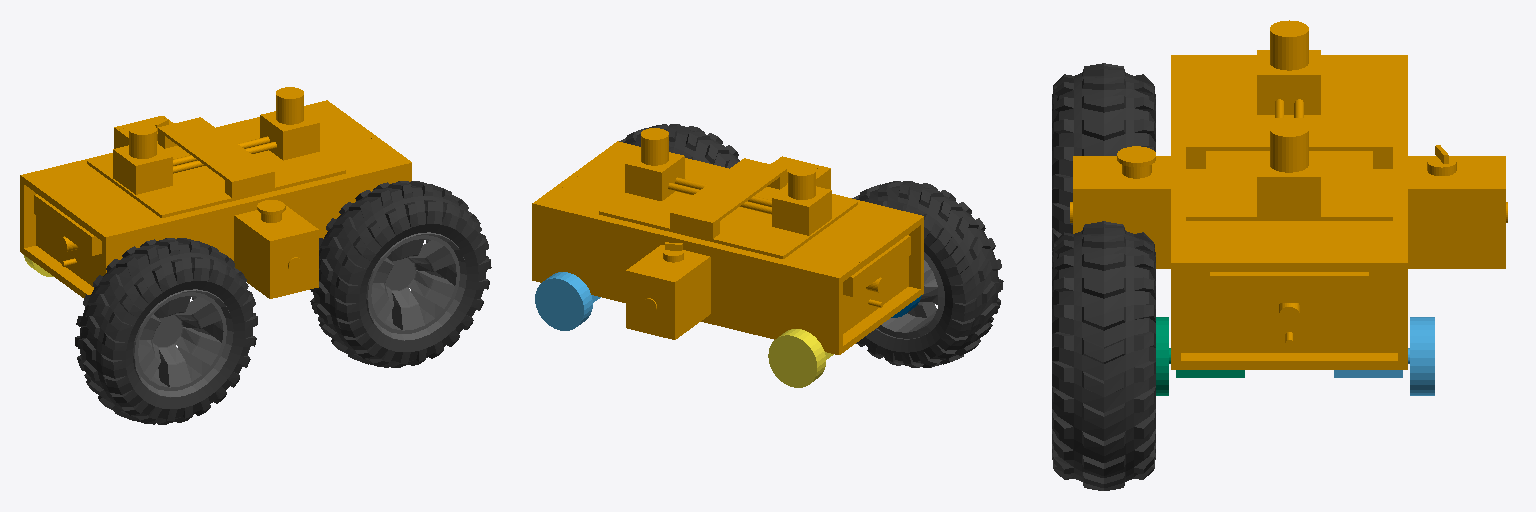
The robot description file, URDF, robot "ROBOTIKA_FREYJA":
<?xml version='1.0' encoding='utf-8'?>
<robot name='ROBOTIKA_FREYJA'>
  <link name='base_link'>
    <inertial>
      <origin xyz='0 0 0.0725' rpy='0 -0 0'/>
      <mass value='9.6'/>
      <inertia ixx='0.0512' ixy='0' ixz='0' iyy='0.07712' iyz='0' izz='0.11808'/>
    </inertial>
    <collision name='chassis_collision'>
      <origin xyz='0 0 0.105' rpy='0 -0 0'/>
      <geometry>
        <box size='0.5 0.24 0.235'/>
      </geometry>
    </collision>
    <collision name='left_mount_collision'>
      <origin xyz='0 0.17 0.085' rpy='0 -0 0'/>
      <geometry>
        <box size='0.08 0.1 0.115'/>
      </geometry>
    </collision>
    <collision name='right_mount_collision'>
      <origin xyz='0 -0.17 0.085' rpy='0 -0 0'/>
      <geometry>
        <box size='0.08 0.1 0.115'/>
      </geometry>
    </collision>
    <visual name='chassis_main_visual'>
      <origin xyz='0 0 0.0725' rpy='0 -0 0'/>
      <geometry>
        <box size='0.46 0.24 0.12'/>
      </geometry>
    </visual>
    <visual name='chassis_front_face_bottom'>
      <origin xyz='0.24 0 0.0175' rpy='0 -0 0'/>
      <geometry>
        <box size='0.02001 0.24 0.01'/>
      </geometry>
    </visual>
    <visual name='chassis_front_face_top'>
      <origin xyz='0.24 0 0.1275' rpy='0 -0 0'/>
      <geometry>
        <box size='0.02001 0.24 0.01'/>
      </geometry>
    </visual>
    <visual name='chassis_front_face_top_marker'>
      <origin xyz='0.245 0 0.1325' rpy='0 -0 0'/>
      <geometry>
        <box size='0.01 0.12 0.0001'/>
      </geometry>
    </visual>
    <visual name='chassis_front_face_left'>
      <origin xyz='0.24 0.115 0.0725' rpy='0 -0 0'/>
      <geometry>
        <box size='0.02001 0.01 0.12'/>
      </geometry>
    </visual>
    <visual name='chassis_front_face_right'>
      <origin xyz='0.24 -0.115 0.0725' rpy='0 -0 0'/>
      <geometry>
        <box size='0.02001 0.01 0.12'/>
      </geometry>
    </visual>
    <visual name='chassis_rear_face_bottom'>
      <origin xyz='-0.24 0 0.0175' rpy='0 -0 0'/>
      <geometry>
        <box size='0.02001 0.24 0.01'/>
      </geometry>
    </visual>
    <visual name='chassis_rear_face_top'>
      <origin xyz='-0.24 0 0.1275' rpy='0 -0 0'/>
      <geometry>
        <box size='0.02001 0.24 0.01'/>
      </geometry>
    </visual>
    <visual name='chassis_rear_face_top_marker'>
      <origin xyz='-0.245 0 0.1325' rpy='0 -0 0'/>
      <geometry>
        <box size='0.01 0.12 0.0001'/>
      </geometry>
    </visual>
    <visual name='chassis_rear_face_left'>
      <origin xyz='-0.24 0.115 0.0725' rpy='0 -0 0'/>
      <geometry>
        <box size='0.02001 0.01 0.12'/>
      </geometry>
    </visual>
    <visual name='chassis_rear_face_right'>
      <origin xyz='-0.24 -0.115 0.0725' rpy='0 -0 0'/>
      <geometry>
        <box size='0.02001 0.01 0.12'/>
      </geometry>
    </visual>
    <visual name='lidar_base_visual'>
      <origin xyz='0 0 0.135' rpy='0 -0 0'/>
      <geometry>
        <box size='0.3001 0.21 0.005'/>
      </geometry>
    </visual>
    <visual name='cable_cover_left_visual'>
      <origin xyz='0 0.095 0.1475' rpy='0 -0 0'/>
      <geometry>
        <box size='0.07 0.02 0.02001'/>
      </geometry>
    </visual>
    <visual name='cable_cover_right_visual'>
      <origin xyz='0 -0.095 0.1475' rpy='0 -0 0'/>
      <geometry>
        <box size='0.07 0.02 0.02001'/>
      </geometry>
    </visual>
    <visual name='cable_cover_top_visual'>
      <origin xyz='0 0 0.16' rpy='0 -0 0'/>
      <geometry>
        <box size='0.07 0.21 0.005'/>
      </geometry>
    </visual>
    <visual name='left_mount_visual'>
      <origin xyz='0 0.17 0.0725' rpy='0 -0 0'/>
      <geometry>
        <box size='0.08 0.1 0.09'/>
      </geometry>
    </visual>
    <visual name='left_mount_top_marker_visual'>
      <origin xyz='0 0.215 0.1175' rpy='0 -0 0'/>
      <geometry>
        <box size='0.08 0.01 0.0001'/>
      </geometry>
    </visual>
    <visual name='right_mount_visual'>
      <origin xyz='0 -0.17 0.0725' rpy='0 -0 0'/>
      <geometry>
        <box size='0.08 0.1 0.09'/>
      </geometry>
    </visual>
    <visual name='right_mount_top_marker_visual'>
      <origin xyz='0 -0.215 0.1175' rpy='0 -0 0'/>
      <geometry>
        <box size='0.08 0.01 0.0001'/>
      </geometry>
    </visual>
    <visual name='emergency_stop_bottom_visual'>
      <origin xyz='0 -0.155 0.125' rpy='0 -0 0'/>
      <geometry>
        <cylinder radius='0.015' length='0.015'/>
      </geometry>
    </visual>
    <visual name='emergency_stop_top_visual'>
      <origin xyz='0 -0.155 0.135' rpy='0 -0 0'/>
      <geometry>
        <cylinder radius='0.02' length='0.005'/>
      </geometry>
    </visual>
    <visual name='power_switch_bottom_visual'>
      <origin xyz='0 0.155 0.1225' rpy='0 -0 0'/>
      <geometry>
        <cylinder radius='0.015' length='0.005'/>
      </geometry>
    </visual>
    <visual name='power_switch_middle_visual'>
      <origin xyz='0 0.155 0.1275' rpy='0 -0 0'/>
      <geometry>
        <cylinder radius='0.015' length='0.005'/>
      </geometry>
    </visual>
    <visual name='power_switch_top_visual'>
      <origin xyz='0 0.155 0.1375' rpy='0 -0 0.35'/>
      <geometry>
        <box size='0.025 0.005 0.01'/>
      </geometry>
    </visual>
    <visual name='laser_front_bottom_visual'>
      <origin xyz='0.12 0 0.16' rpy='0 -0 0'/>
      <geometry>
        <box size='0.06 0.065 0.045'/>
      </geometry>
    </visual>
    <visual name='laser_front_top_visual'>
      <origin xyz='0.12 0 0.2025' rpy='0 -0 0'/>
      <geometry>
        <cylinder radius='0.02' length='0.04'/>
      </geometry>
    </visual>
    <visual name='laser_front_cable_green'>
      <origin xyz='0.045 0.01 0.1525' rpy='0 1.5708 0'/>
      <geometry>
        <cylinder radius='0.005' length='0.09'/>
      </geometry>
    </visual>
    <visual name='laser_front_cable_black'>
      <origin xyz='0.045 -0.01 0.1525' rpy='0 1.5708 0'/>
      <geometry>
        <cylinder radius='0.005' length='0.09'/>
      </geometry>
    </visual>
    <visual name='laser_rear_bottom_visual'>
      <origin xyz='-0.12 0 0.1625' rpy='0 -0 0'/>
      <geometry>
        <box size='0.06 0.065 0.045'/>
      </geometry>
    </visual>
    <visual name='laser_rear_top_visual'>
      <origin xyz='-0.12 0 0.2025' rpy='0 -0 0'/>
      <geometry>
        <cylinder radius='0.02' length='0.04'/>
      </geometry>
    </visual>
    <visual name='laser_rear_cable_green'>
      <origin xyz='-0.045 -0.01 0.1525' rpy='0 1.5708 0'/>
      <geometry>
        <cylinder radius='0.005' length='0.09'/>
      </geometry>
    </visual>
    <visual name='laser_rear_cable_black'>
      <origin xyz='-0.045 0.01 0.1525' rpy='0 1.5708 0'/>
      <geometry>
        <cylinder radius='0.005' length='0.09'/>
      </geometry>
    </visual>
    <visual name='rgbd_front_visual'>
      <origin xyz='0.235 0 0.1025' rpy='0 -0 0'/>
      <geometry>
        <box size='0.03 0.162 0.03'/>
      </geometry>
    </visual>
    <visual name='rgbd_rear_visual'>
      <origin xyz='-0.235 0 0.1025' rpy='0 -0 0'/>
      <geometry>
        <box size='0.03 0.162 0.03'/>
      </geometry>
    </visual>
    <visual name='camera_front_visual'>
      <origin xyz='0.2349 0 0.0725' rpy='0 1.5708 0'/>
      <geometry>
        <cylinder radius='0.011' length='0.03'/>
      </geometry>
    </visual>
    <visual name='camera_rear_visual'>
      <origin xyz='-0.2349 0 0.0725' rpy='0 -1.5708 0'/>
      <geometry>
        <cylinder radius='0.011' length='0.03'/>
      </geometry>
    </visual>
    <visual name='camera_left_visual'>
      <origin xyz='0 0.22 0.0725' rpy='-1.5708 0 0'/>
      <geometry>
        <cylinder radius='0.011' length='0.005'/>
      </geometry>
    </visual>
    <visual name='camera_right_visual'>
      <origin xyz='0 -0.22 0.0725' rpy='1.5708 -0 0'/>
      <geometry>
        <cylinder radius='0.011' length='0.005'/>
      </geometry>
    </visual>
    <visual name='light_front_visual'>
      <origin xyz='0.24 0 0.0425' rpy='0 1.5708 0'/>
      <geometry>
        <cylinder radius='0.004' length='0.02001'/>
      </geometry>
    </visual>
    <visual name='light_rear_visual'>
      <origin xyz='-0.24 0 0.0425' rpy='0 1.5708 0'/>
      <geometry>
        <cylinder radius='0.004' length='0.02001'/>
      </geometry>
    </visual>
    <visual name='light_left_visual'>
      <origin xyz='0 0.22 0.0425' rpy='1.5708 -0 0'/>
      <geometry>
        <cylinder radius='0.004' length='0.0005'/>
      </geometry>
    </visual>
    <visual name='light_right_visual'>
      <origin xyz='0 -0.22 0.0425' rpy='1.5708 -0 0'/>
      <geometry>
        <cylinder radius='0.004' length='0.0005'/>
      </geometry>
    </visual>
  </link>
  <sensor name='imu_sensor' update_rate='50'>
    <parent link='base_link'/>
    <origin xyz='0 0 0' rpy='0 -0 0'/>
  </sensor>
  <sensor name='magnetometer' update_rate='50'>
    <parent link='base_link'/>
    <origin xyz='0 0 0' rpy='0 -0 0'/>
  </sensor>
  <sensor name='air_pressure' update_rate='20'>
    <parent link='base_link'/>
    <origin xyz='0 0 0' rpy='0 -0 0'/>
  </sensor>
  <sensor name='laser_front' update_rate='15'>
    <parent link='base_link'/>
    <origin xyz='0.12 0 0.1925' rpy='0 -0 0'/>
  </sensor>
  <sensor name='laser_rear' update_rate='15'>
    <parent link='base_link'/>
    <origin xyz='-0.12 0 0.1925' rpy='0 -0 3.14159'/>
  </sensor>
  <sensor name='rgbd_front' update_rate='30'>
    <parent link='base_link'/>
    <origin xyz='0.250001 0 0.1025' rpy='0 -0 0'/>
    <camera>
      <image width='640' height='360' format='R8G8B8' hfov='1.48358' near='0.01' far='300' />
    </camera>
  </sensor>
  <sensor name='rgbd_rear' update_rate='30'>
    <parent link='base_link'/>
    <origin xyz='-0.250001 0 0.1025' rpy='0 -0 3.14159'/>
    <camera>
      <image width='640' height='360' format='R8G8B8' hfov='1.48358' near='0.01' far='300' />
    </camera>
  </sensor>
  <sensor name='camera_front' update_rate='30'>
    <parent link='base_link'/>
    <origin xyz='0.25 0 0.0725' rpy='0 -0 0'/>
    <camera>
      <image width='640' height='360' format='R8G8B8' hfov='3' near='0.01' far='300' />
    </camera>
  </sensor>
  <sensor name='camera_rear' update_rate='30'>
    <parent link='base_link'/>
    <origin xyz='-0.25 0 0.0725' rpy='0 -0 3.14159'/>
    <camera>
      <image width='640' height='360' format='R8G8B8' hfov='3' near='0.01' far='300' />
    </camera>
  </sensor>
  <sensor name='camera_left' update_rate='30'>
    <parent link='base_link'/>
    <origin xyz='0 0.225 0' rpy='0.0725 -0 0'/>
    <camera>
      <image width='640' height='360' format='R8G8B8' hfov='3' near='0.01' far='300' />
    </camera>
  </sensor>
  <sensor name='camera_right' update_rate='30'>
    <parent link='base_link'/>
    <origin xyz='0 -0.225 0.0725' rpy='0 0 -1.5708'/>
    <camera>
      <image width='640' height='360' format='R8G8B8' hfov='3' near='0.01' far='300' />
    </camera>
  </sensor>
  <link name='front_left_wheel'>
    <inertial>
      <origin xyz='0 0 0' rpy='0 -0 0'/>
      <mass value='5'/>
      <inertia ixx='0.0153' ixy='0' ixz='0' iyy='0.025' iyz='0' izz='0.0153'/>
    </inertial>
    <collision name='collision'>
      <origin xyz='0 0 0' rpy='-1.5708 0 0'/>
      <geometry>
        <cylinder radius='0.1275' length='0.082'/>
      </geometry>
    </collision>
    <visual name='tire_visual'>
      <origin xyz='0 0 0' rpy='1.5708 -0 0'/>
      <geometry>
        <mesh filename='meshes/wheel_left.dae' scale='1.30102 1.30102 2.05'/>
      </geometry>
    </visual>
    <visual name='hub_visual'>
      <origin xyz='0 -0.055 0' rpy='1.5708 -0 0'/>
      <geometry>
        <cylinder radius='0.04' length='0.025'/>
      </geometry>
    </visual>
    <visual name='axis_visual'>
      <origin xyz='0 -0.08 0' rpy='1.5708 -0 0'/>
      <geometry>
        <cylinder radius='0.008' length='0.05'/>
      </geometry>
    </visual>
    <visual name='mount_visual'>
      <origin xyz='0 -0.11 0' rpy='0 -0 0'/>
      <geometry>
        <box size='0.05 0.07 0.025'/>
      </geometry>
    </visual>
  </link>
  <link name='front_right_wheel'>
    <inertial>
      <origin xyz='0 0 0' rpy='0 -0 0'/>
      <mass value='5'/>
      <inertia ixx='0.0153' ixy='0' ixz='0' iyy='0.025' iyz='0' izz='0.0153'/>
    </inertial>
    <collision name='collision'>
      <origin xyz='0 0 0' rpy='1.5708 -0 0'/>
      <geometry>
        <cylinder radius='0.1275' length='0.082'/>
      </geometry>
    </collision>
    <visual name='tire_visual'>
      <origin xyz='0 0 0' rpy='1.5708 -0 0'/>
      <geometry>
        <mesh filename='meshes/wheel_right.dae' scale='1.30102 1.30102 2.05'/>
      </geometry>
    </visual>
    <visual name='hub_visual'>
      <origin xyz='0 0.055 0' rpy='1.5708 -0 0'/>
      <geometry>
        <cylinder radius='0.04' length='0.025'/>
      </geometry>
    </visual>
    <visual name='axis_visual'>
      <origin xyz='0 0.08 0' rpy='1.5708 -0 0'/>
      <geometry>
        <cylinder radius='0.008' length='0.05'/>
      </geometry>
    </visual>
    <visual name='mount_visual'>
      <origin xyz='0 0.11 0' rpy='0 -0 0'/>
      <geometry>
        <box size='0.05 0.07 0.025'/>
      </geometry>
    </visual>
  </link>
  <link name='rear_left_wheel'>
    <inertial>
      <origin xyz='0 0 0' rpy='0 -0 0'/>
      <mass value='5'/>
      <inertia ixx='0.0153' ixy='0' ixz='0' iyy='0.025' iyz='0' izz='0.0153'/>
    </inertial>
    <collision name='collision'>
      <origin xyz='0 0 0' rpy='-1.5708 0 0'/>
      <geometry>
        <cylinder radius='0.1275' length='0.082'/>
      </geometry>
    </collision>
    <visual name='tire_visual'>
      <origin xyz='0 0 0' rpy='1.5708 -0 0'/>
      <geometry>
        <mesh filename='meshes/wheel_left.dae' scale='1.30102 1.30102 2.05'/>
      </geometry>
    </visual>
    <visual name='hub_visual'>
      <origin xyz='0 -0.055 0' rpy='1.5708 -0 0'/>
      <geometry>
        <cylinder radius='0.04' length='0.025'/>
      </geometry>
    </visual>
    <visual name='axis_visual'>
      <origin xyz='0 -0.08 0' rpy='1.5708 -0 0'/>
      <geometry>
        <cylinder radius='0.008' length='0.05'/>
      </geometry>
    </visual>
    <visual name='mount_visual'>
      <origin xyz='0 -0.11 0' rpy='0 -0 0'/>
      <geometry>
        <box size='0.05 0.07 0.025'/>
      </geometry>
    </visual>
  </link>
  <link name='rear_right_wheel'>
    <inertial>
      <origin xyz='0 0 0' rpy='0 -0 0'/>
      <mass value='5'/>
      <inertia ixx='0.0153' ixy='0' ixz='0' iyy='0.025' iyz='0' izz='0.0153'/>
    </inertial>
    <collision name='collision'>
      <origin xyz='0 0 0' rpy='1.5708 -0 0'/>
      <geometry>
        <cylinder radius='0.1275' length='0.082'/>
      </geometry>
    </collision>
    <visual name='tire_visual'>
      <origin xyz='0 0 0' rpy='1.5708 -0 0'/>
      <geometry>
        <mesh filename='meshes/wheel_right.dae' scale='1.30102 1.30102 2.05'/>
      </geometry>
    </visual>
    <visual name='hub_visual'>
      <origin xyz='0 0.055 0' rpy='1.5708 -0 0'/>
      <geometry>
        <cylinder radius='0.04' length='0.025'/>
      </geometry>
    </visual>
    <visual name='axis_visual'>
      <origin xyz='0 0.08 0' rpy='1.5708 -0 0'/>
      <geometry>
        <cylinder radius='0.008' length='0.05'/>
      </geometry>
    </visual>
    <visual name='mount_visual'>
      <origin xyz='0 0.11 0' rpy='0 -0 0'/>
      <geometry>
        <box size='0.05 0.07 0.025'/>
      </geometry>
    </visual>
  </link>
  <joint name='front_left_wheel_joint' type='revolute'>
    <origin xyz='0.19 0.19 0' rpy='0 -0 0'/>
    <parent link='base_link'/>
    <child link='front_left_wheel'/>
    <axis xyz='0 1 0'/>
    <limit lower='-1.79769e+308' upper='1.79769e+308' effort='10' velocity='19.61'/>
  </joint>
  <joint name='rear_left_wheel_joint' type='revolute'>
    <origin xyz='-0.19 0.19 0' rpy='0 -0 0'/>
    <parent link='base_link'/>
    <child link='rear_left_wheel'/>
    <axis xyz='0 1 0'/>
    <limit lower='-1.79769e+308' upper='1.79769e+308' effort='10' velocity='19.61'/>
  </joint>
  <joint name='rear_right_wheel_joint' type='revolute'>
    <origin xyz='-0.19 -0.19 0' rpy='0 -0 0'/>
    <parent link='base_link'/>
    <child link='rear_right_wheel'/>
    <axis xyz='0 1 0'/>
    <limit lower='-1.79769e+308' upper='1.79769e+308' effort='10' velocity='19.61'/>
  </joint>
  <joint name='front_right_wheel_joint' type='revolute'>
    <origin xyz='0.19 -0.19 0' rpy='0 -0 0'/>
    <parent link='base_link'/>
    <child link='front_right_wheel'/>
    <axis xyz='0 1 0'/>
    <limit lower='-1.79769e+308' upper='1.79769e+308' effort='10' velocity='19.61'/>
  </joint>
</robot>

--- Render facts (derived) ---
3 views of the same robot in one strip: view 1: azimuth 30°, elevation 25°; view 2: azimuth 150°, elevation 25°; view 3: azimuth 270°, elevation 25° (orthographic).
Robot: ROBOTIKA_FREYJA — 5 links, 4 joints (4 revolute); root link base_link; default pose: every joint at zero.
Visible links, largest first — view 1: base_link, rear_right_wheel, front_right_wheel; view 2: base_link, rear_right_wheel, front_left_wheel, rear_left_wheel, front_right_wheel; view 3: base_link, front_right_wheel, rear_right_wheel, front_left_wheel.
Boxes of the visible links, bbox=[...] form: base_link: bbox=[20, 87, 411, 298]; rear_right_wheel: bbox=[75, 238, 257, 424]; front_right_wheel: bbox=[310, 181, 491, 367]; base_link: bbox=[532, 128, 923, 354]; rear_right_wheel: bbox=[852, 181, 1003, 367]; front_left_wheel: bbox=[535, 272, 600, 330]; rear_left_wheel: bbox=[768, 329, 833, 387]; front_right_wheel: bbox=[619, 124, 739, 168]; base_link: bbox=[1070, 20, 1507, 369]; front_right_wheel: bbox=[1052, 221, 1244, 490]; rear_right_wheel: bbox=[1052, 63, 1155, 251]; front_left_wheel: bbox=[1334, 317, 1434, 395].
Bounding box of the posed robot: 0.6539 × 0.464 × 0.3594 m (x, y, z).
2 mesh visuals loaded from 2 distinct referenced files (1 Collada DAE); not drawn: 2 (reference not matched to a file when rendering).
